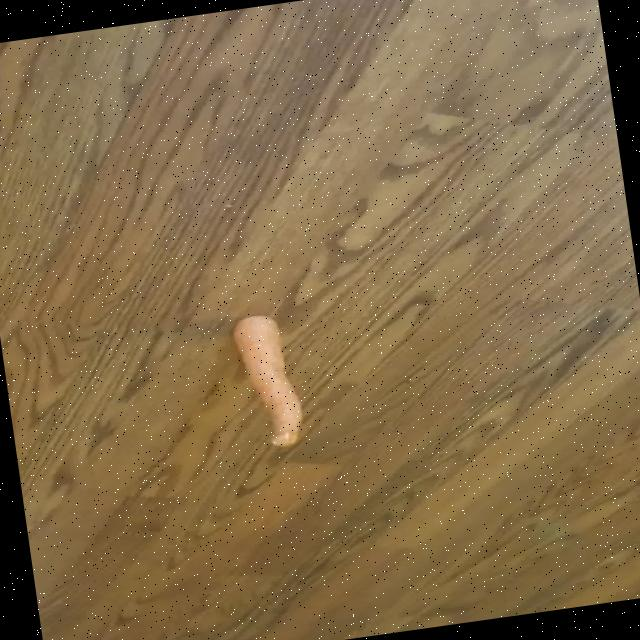carrot: (232, 315, 302, 445)
